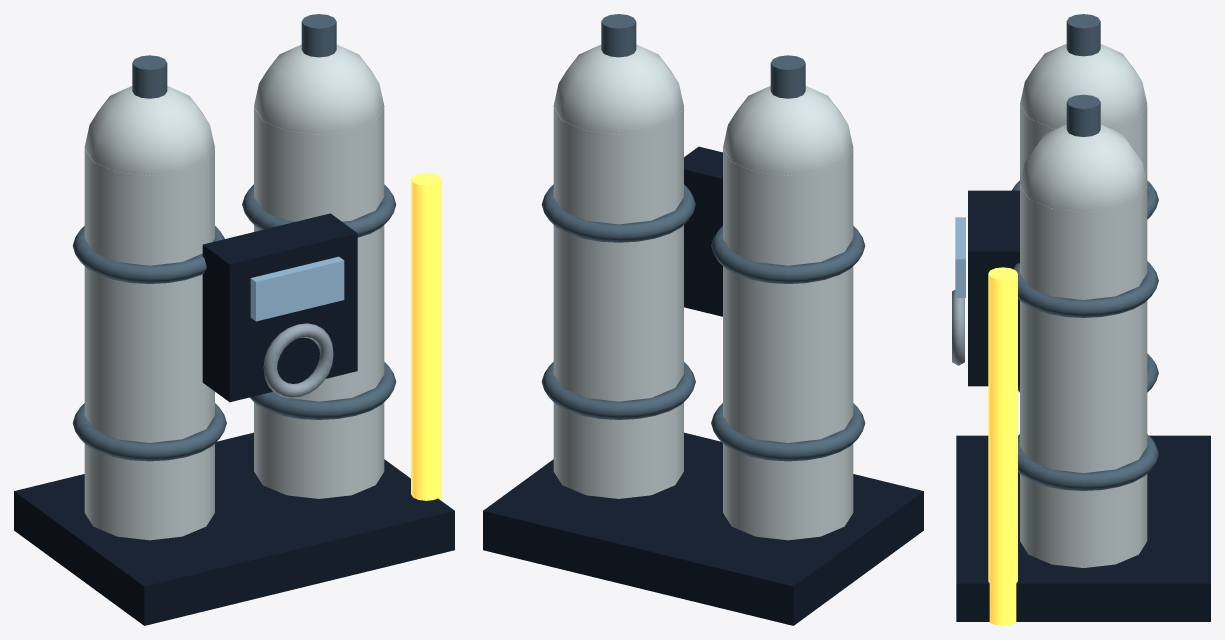
File: device-oxygen.glb
The picture shows the model from 3 angles, left to right: view 1: azimuth 30°, elevation 25°; view 2: azimuth 150°, elevation 25°; view 3: azimuth 270°, elevation 25°; orthographic projection. The views are drawn at different scales.
Visible parts, largest first — view 1: oxygen-bottle (×2), oxygen-base, oxygen-console, tank-dome (×2), tank-band (×4), supply-line, state-light, valve (×2), pressure-gauge; view 2: oxygen-bottle (×2), oxygen-base, tank-dome (×2), tank-band (×4), oxygen-console, valve (×2); view 3: oxygen-bottle (×2), oxygen-base, tank-dome (×2), supply-line, oxygen-console, tank-band (×3), valve (×2), pressure-gauge, state-light.
Part boxes in pixels (x1,y1,x2,y2): oxygen-bottle (×2): (84, 107, 384, 540); oxygen-base: (14, 432, 454, 625); oxygen-console: (202, 213, 357, 402); tank-dome (×2): (84, 44, 384, 175); tank-band (×4): (72, 184, 396, 461); supply-line: (411, 173, 441, 500); state-light: (250, 256, 344, 321); valve (×2): (132, 14, 336, 98); pressure-gauge: (263, 323, 333, 397); oxygen-bottle (×2): (553, 107, 853, 540); oxygen-base: (483, 432, 923, 625); tank-dome (×2): (553, 44, 853, 175); tank-band (×4): (541, 184, 865, 461); oxygen-console: (684, 146, 722, 316); valve (×2): (601, 14, 805, 98); oxygen-bottle (×2): (1020, 105, 1147, 567); oxygen-base: (956, 435, 1210, 621); tank-dome (×2): (1020, 44, 1147, 212); supply-line: (988, 267, 1017, 625); oxygen-console: (968, 190, 1019, 386); tank-band (×3): (1012, 180, 1158, 490); valve (×2): (1066, 14, 1100, 136); pressure-gauge: (952, 290, 964, 365); state-light: (955, 217, 965, 297).
Size of the model in its own units: 1.69 by 2.53 by 1.22.
